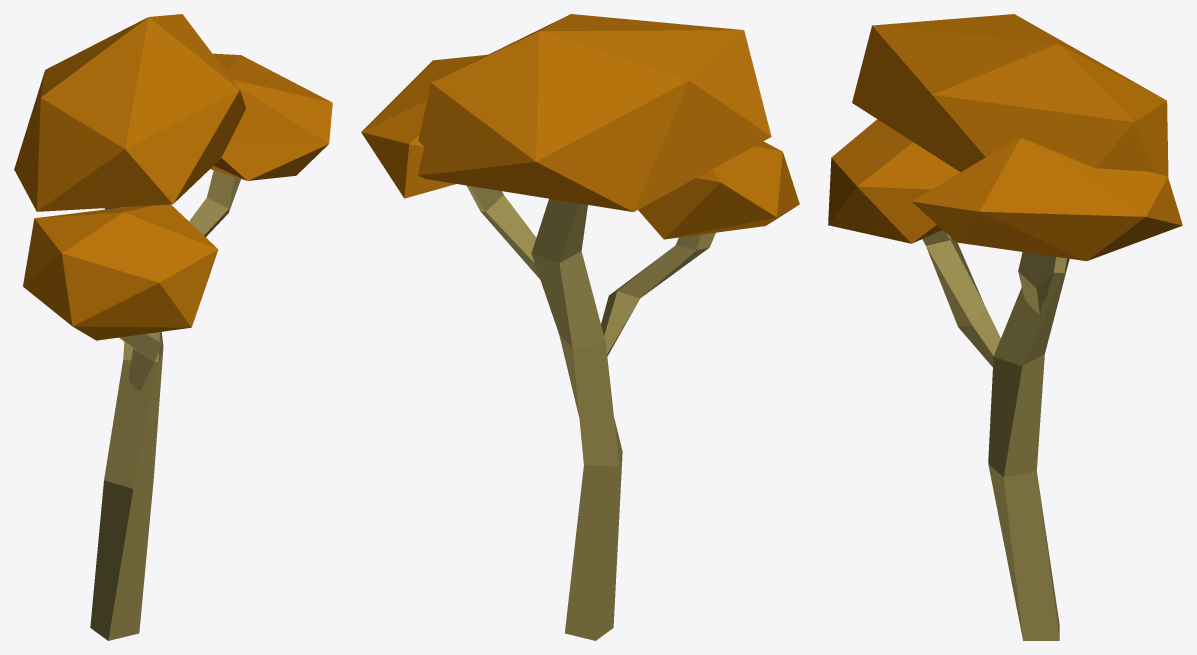
The model's file is Tree_Fall_3.fbx.
The picture shows the model from 3 angles, left to right: view 1: azimuth 30°, elevation 25°; view 2: azimuth 150°, elevation 25°; view 3: azimuth 270°, elevation 25°; orthographic projection. The views are drawn at different scales.
Parts seen in each view (by area): view 1: Leaves.002, Leaves.001, Trunk, Leaves, Trunk.001, Trunk.002; view 2: Leaves.002, Trunk, Leaves.001, Leaves, Trunk.002, Trunk.001; view 3: Leaves.002, Leaves, Trunk, Leaves.001, Trunk.002, Trunk.001.
Boxes of the visible parts, x1,y1,x2,y2 form: Leaves.002: [14, 14, 245, 211]; Leaves.001: [23, 204, 218, 340]; Trunk: [90, 207, 163, 640]; Leaves: [210, 53, 332, 180]; Trunk.001: [189, 170, 240, 236]; Trunk.002: [119, 333, 162, 390]; Leaves.002: [418, 14, 771, 211]; Trunk: [531, 198, 622, 640]; Leaves.001: [638, 141, 799, 239]; Leaves: [361, 54, 487, 198]; Trunk.002: [601, 232, 715, 356]; Trunk.001: [467, 185, 540, 279]; Leaves.002: [852, 14, 1168, 176]; Leaves: [912, 138, 1182, 261]; Trunk: [988, 257, 1069, 640]; Leaves.001: [828, 119, 960, 243]; Trunk.002: [922, 230, 1000, 366]; Trunk.001: [1018, 252, 1056, 314].
Bounding box in the file's own units: 197 × 344 × 181.
